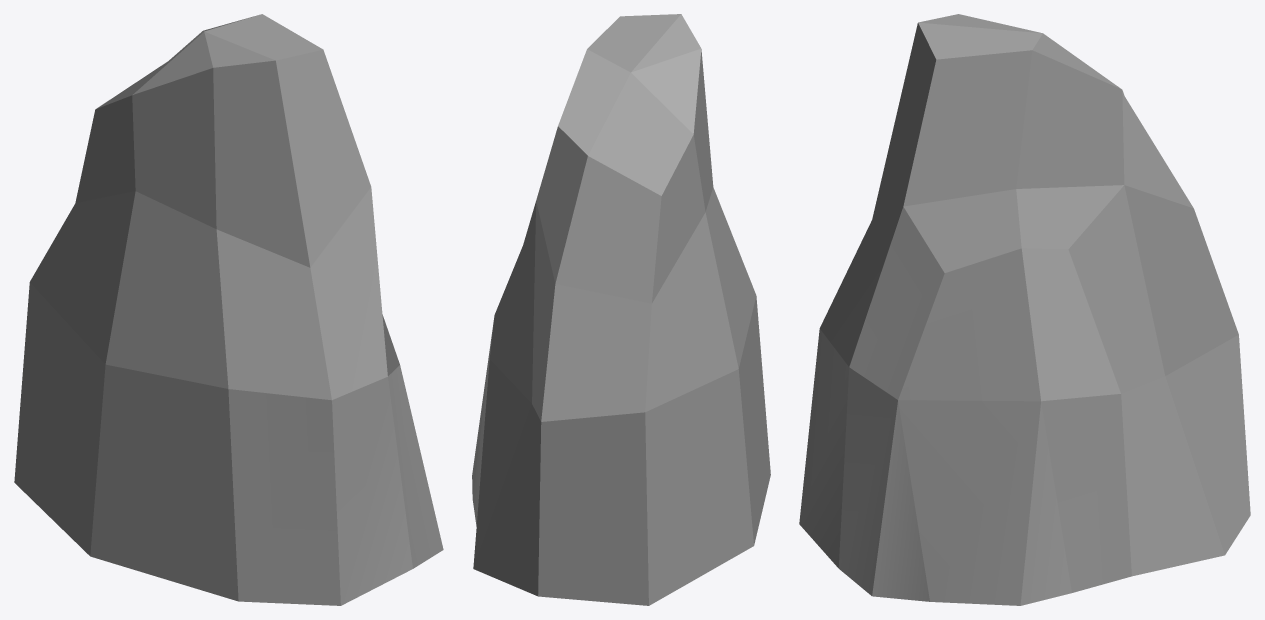
Rendered from HardRock_09.fbx.
The picture shows the model from 3 angles, left to right: view 1: azimuth 30°, elevation 25°; view 2: azimuth 150°, elevation 25°; view 3: azimuth 270°, elevation 25°; orthographic projection. The views are drawn at different scales.
Visible parts, largest first — view 1: HardRock_09; view 2: HardRock_09; view 3: HardRock_09.
Boxes of the visible parts, x1,y1,x2,y2 form: HardRock_09: (14, 14, 443, 605); HardRock_09: (472, 14, 770, 605); HardRock_09: (799, 14, 1250, 605).
Bounding box in the file's own units: 84.24 × 133 × 108.
